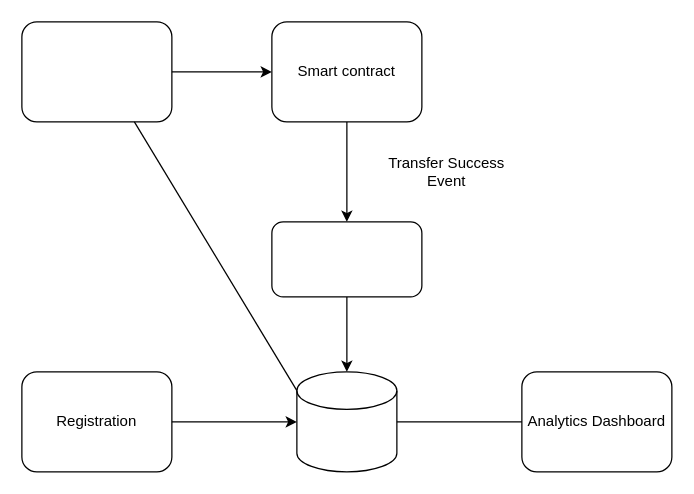
Some shapes in this 694 by 494 pixel diagram are drawn without their labels. Here are the shapes that lost their labels. From the top down, the box of each, then its label:
(21, 21, 172, 122): Extension
(271, 221, 422, 297): Worker
